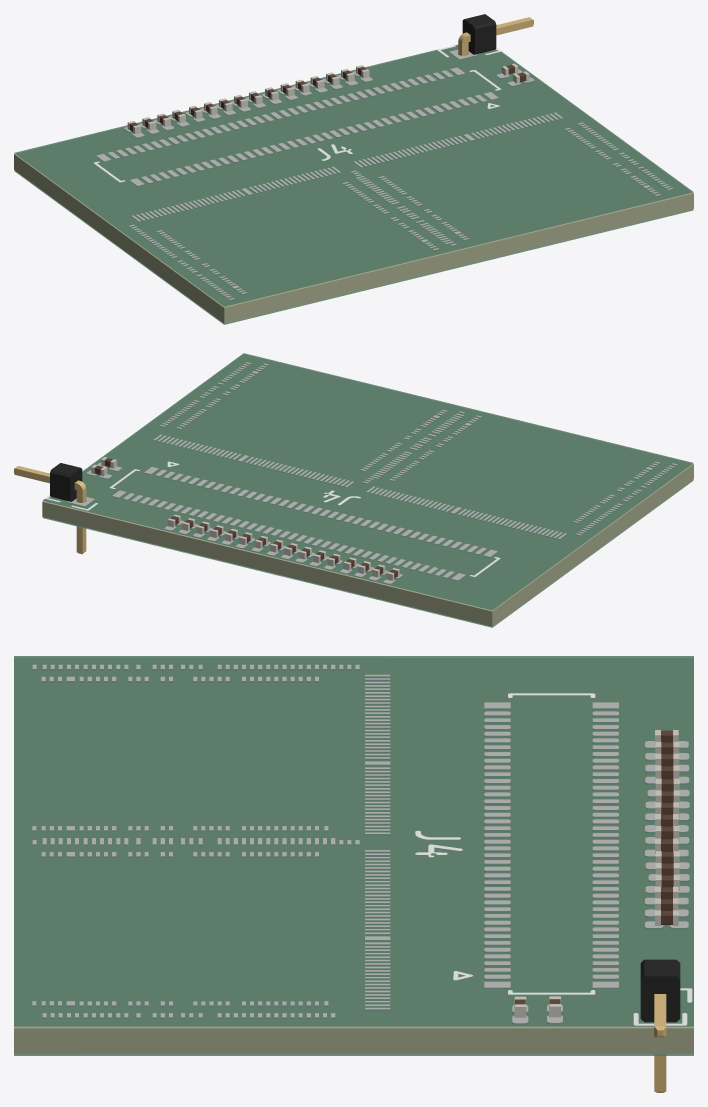
Rendered from asic-board-pcb5-0p8mm.glb.
The picture shows the model from 3 angles, top to bottom: view 1: azimuth 30°, elevation 25°; view 2: azimuth 150°, elevation 25°; view 3: azimuth 270°, elevation 25°; orthographic projection. The views are drawn at different scales.
Parts seen in each view (by area): view 1: =>[0:1:1:11], =>[0:1:1:9], =>[0:1:1:6], =>[0:1:1:5], =>[0:1:1:10], =>[0:1:1:7]; view 2: =>[0:1:1:11], =>[0:1:1:9], =>[0:1:1:6], =>[0:1:1:5], =>[0:1:1:10], =>[0:1:1:7]; view 3: =>[0:1:1:11], =>[0:1:1:9], =>[0:1:1:6], =>[0:1:1:5], =>[0:1:1:7], =>[0:1:1:10].
Boxes of the visible parts, bbox=[...] form: =>[0:1:1:11]: bbox=[14, 46, 693, 323]; =>[0:1:1:9]: bbox=[14, 44, 693, 306]; =>[0:1:1:6]: bbox=[96, 50, 672, 300]; =>[0:1:1:5]: bbox=[458, 14, 533, 55]; =>[0:1:1:10]: bbox=[14, 171, 693, 324]; =>[0:1:1:7]: bbox=[94, 45, 501, 182]; =>[0:1:1:11]: bbox=[42, 355, 693, 626]; =>[0:1:1:9]: bbox=[43, 353, 693, 610]; =>[0:1:1:6]: bbox=[68, 362, 677, 584]; =>[0:1:1:5]: bbox=[14, 463, 86, 554]; =>[0:1:1:10]: bbox=[43, 480, 693, 627]; =>[0:1:1:7]: bbox=[45, 461, 500, 576]; =>[0:1:1:11]: bbox=[14, 658, 693, 1054]; =>[0:1:1:9]: bbox=[14, 656, 693, 1026]; =>[0:1:1:6]: bbox=[32, 665, 689, 1024]; =>[0:1:1:5]: bbox=[640, 959, 680, 1092]; =>[0:1:1:7]: bbox=[415, 693, 692, 1025]; =>[0:1:1:10]: bbox=[14, 1054, 693, 1055].
Size of the model in its own units: 0.0238 by 0.00377 by 0.017.
